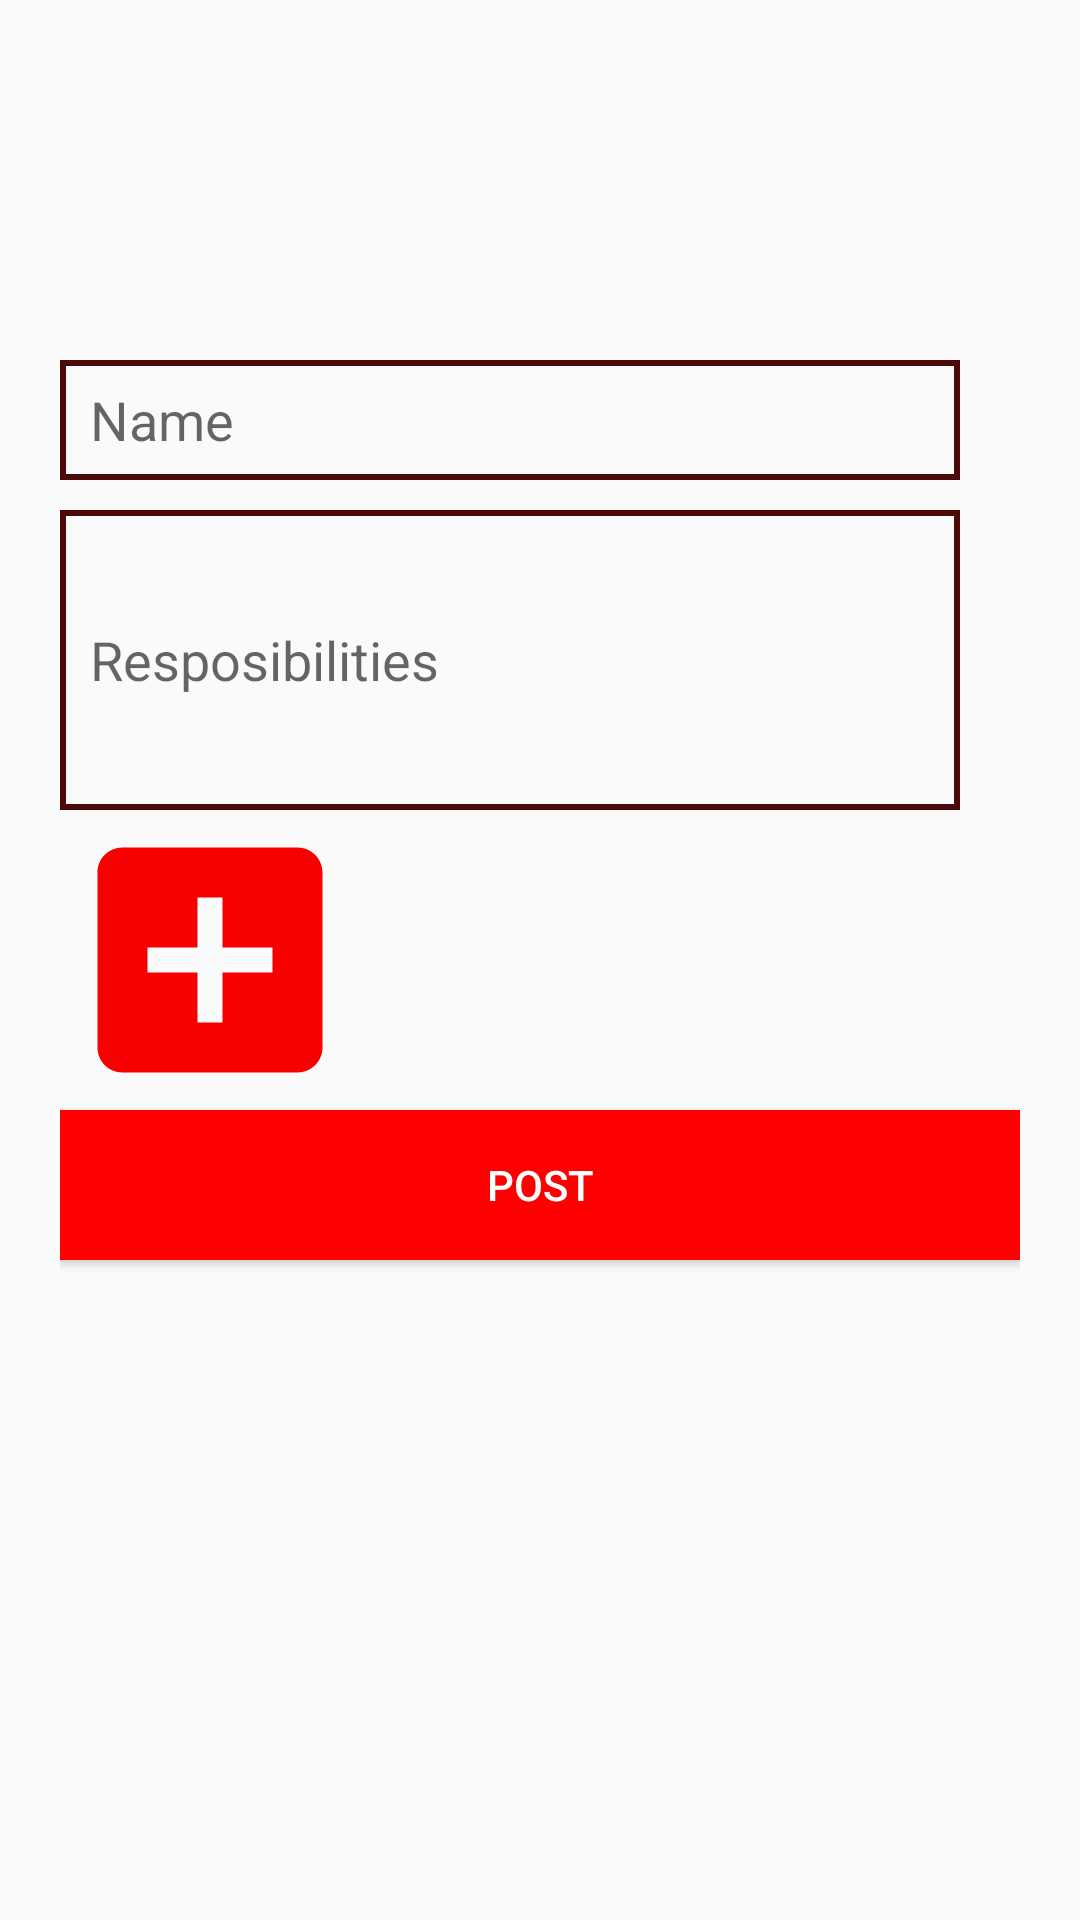

Screen size 1080px x 1920px. Icon name, then its center in pixels as (x=x, y=y):
add profile: (x=210, y=960)
